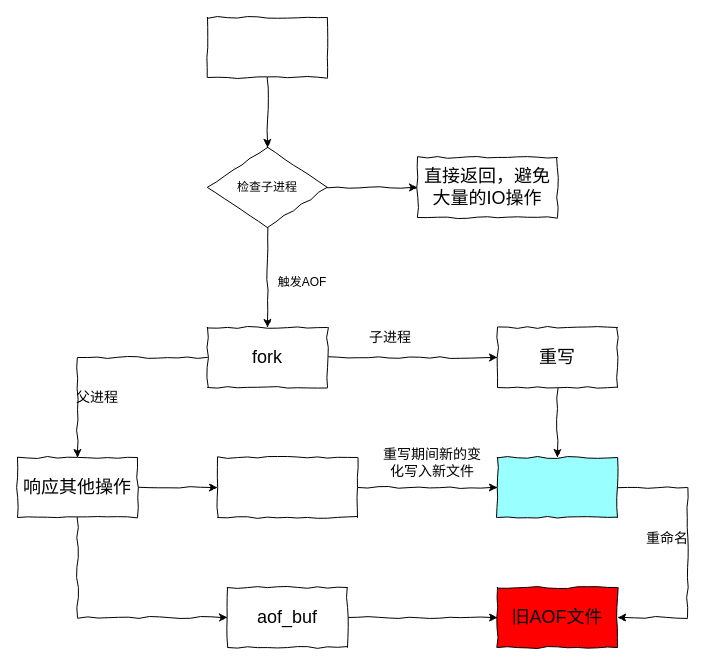
Some shapes in this 715 by 665 pixel diagram are drawn without their labels. Each missing label, with the centre of its shape:
aof_rewrite_buf: the point at 287,487
bgrewriteaof: the point at 267,47
新AOF文件: the point at 557,487
